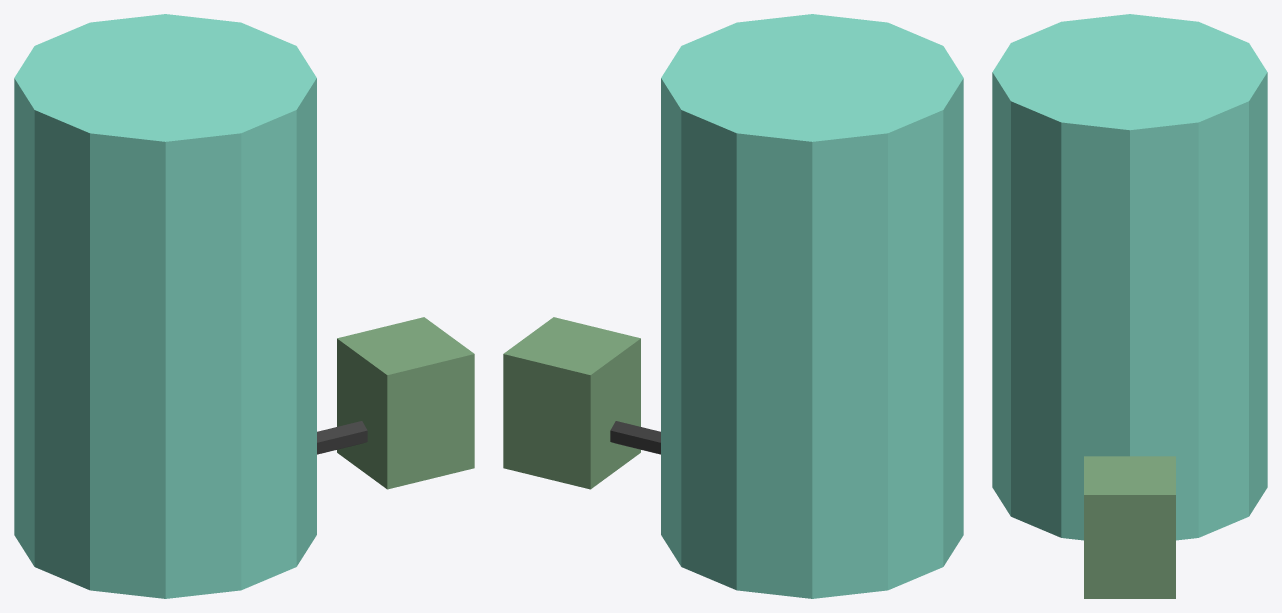
3 renders of one model, left to right at view 1: azimuth 30°, elevation 25°; view 2: azimuth 150°, elevation 25°; view 3: azimuth 270°, elevation 25°, orthographic. The views are drawn at different scales.
Parts seen in each view (by area): view 1: Water tank, Pump, Outlet; view 2: Water tank, Pump, Outlet; view 3: Water tank, Pump.
Part boxes in pixels (box(x1,y1,x2,y2)): Water tank: box(14, 14, 316, 598); Pump: box(337, 317, 474, 489); Outlet: box(317, 421, 367, 454); Water tank: box(661, 14, 963, 598); Pump: box(503, 317, 640, 489); Outlet: box(610, 421, 660, 454); Water tank: box(992, 14, 1267, 540); Pump: box(1084, 456, 1175, 598).
Size of the model in its own units: 0.95 by 1 by 0.6.
Materials: 1 (1 with a texture image).
